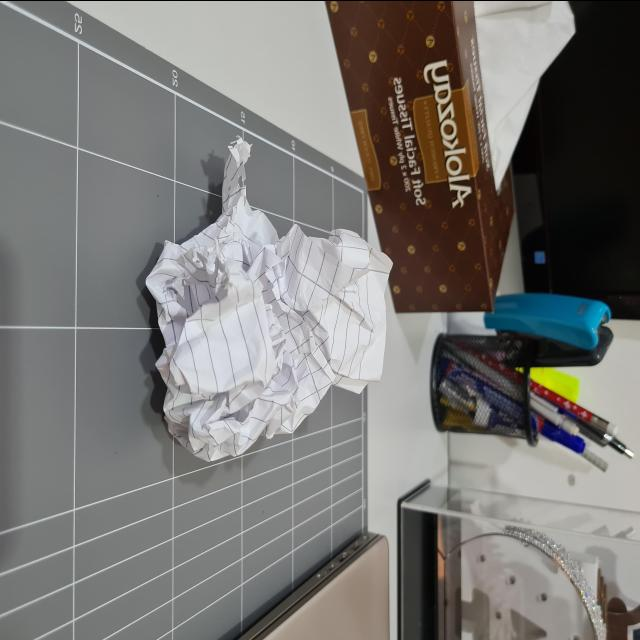kertas: (153, 138, 385, 472)
